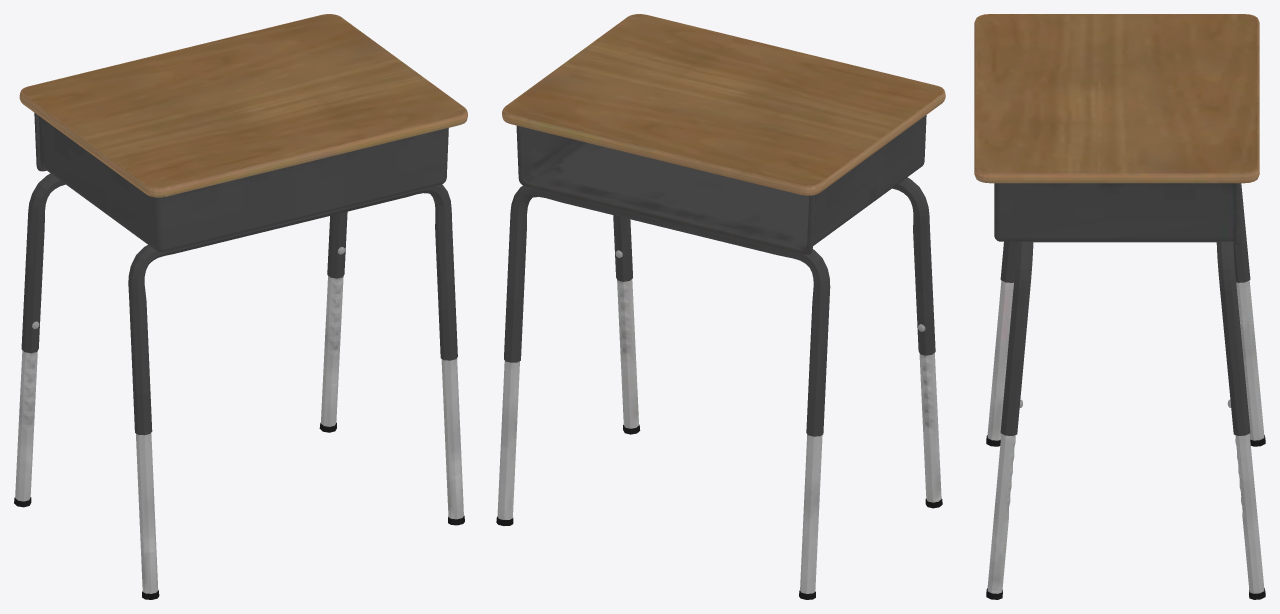
3 renders of one model, left to right at view 1: azimuth 30°, elevation 25°; view 2: azimuth 150°, elevation 25°; view 3: azimuth 270°, elevation 25°, orthographic. The views are drawn at different scales.
Visible parts, largest first — view 1: SchoolDesk_01; view 2: SchoolDesk_01; view 3: SchoolDesk_01.
Part boxes in pixels (x1,y1,x2,y2): SchoolDesk_01: (14, 14, 467, 599); SchoolDesk_01: (496, 14, 945, 599); SchoolDesk_01: (974, 14, 1265, 599).
Size of the model in its own units: 0.7117 by 0.8826 by 0.546.
Materials: 1 (1 with a texture image).
